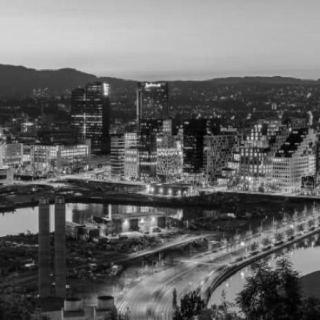other: (122, 212, 216, 258), (21, 137, 87, 175)
